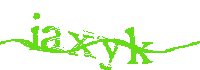a: (41, 27, 62, 54)
i: (30, 11, 41, 51)
k: (126, 26, 153, 67)
x: (68, 29, 96, 59)
y: (97, 35, 119, 70)
